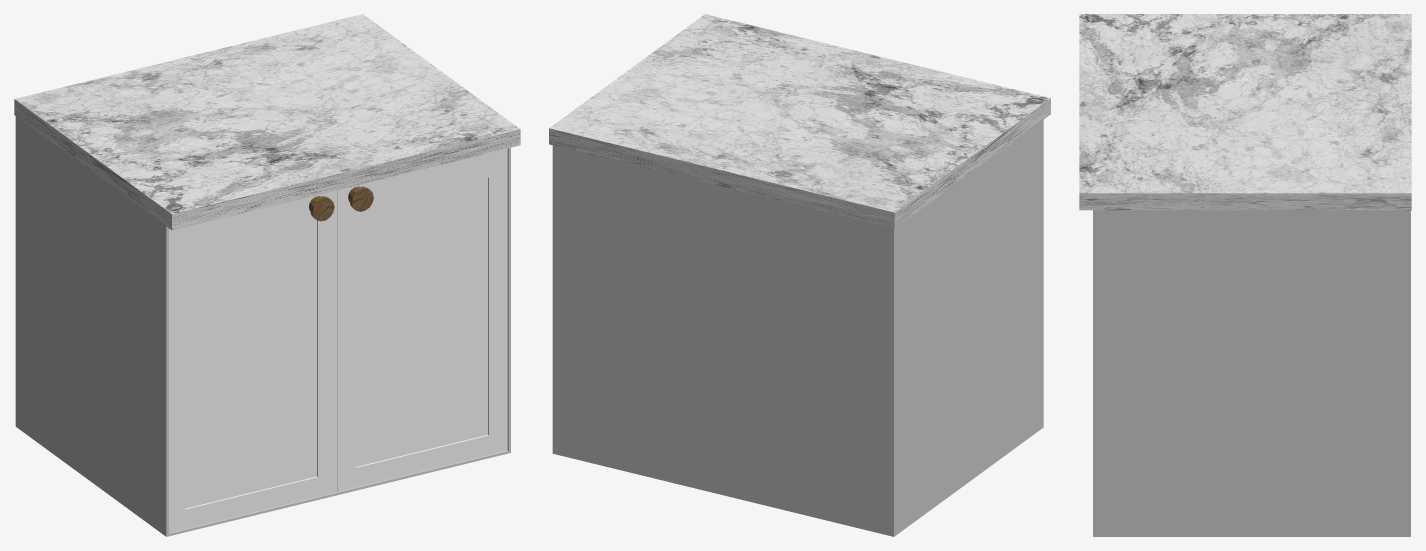
Rendered from cabinet.fbx.
3 views of the same model, side by side, from view 1: azimuth 30°, elevation 25°; view 2: azimuth 150°, elevation 25°; view 3: azimuth 270°, elevation 25° (orthographic). The views are drawn at different scales.
Parts seen in each view (by area): view 1: countertop, leftdoor, rightdoor, Cube; view 2: Cube, countertop; view 3: Cube, countertop.
Part boxes in pixels (left/top/right/bottom): countertop: left=14, top=14, right=520, bottom=230; leftdoor: left=337, top=148, right=507, bottom=491; rightdoor: left=169, top=190, right=336, bottom=532; Cube: left=15, top=116, right=510, bottom=536; Cube: left=552, top=120, right=1043, bottom=536; countertop: left=549, top=14, right=1050, bottom=228; Cube: left=1093, top=210, right=1410, bottom=536; countertop: left=1079, top=14, right=1411, bottom=210.
Size of the model in its own units: 91.52 by 82.2 by 71.65.
Materials: 3 (2 with a texture image).
